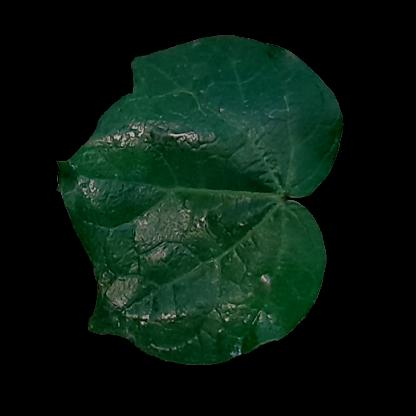healthy: (173, 62, 307, 183), (103, 116, 177, 294), (173, 188, 239, 359), (240, 202, 312, 324)
